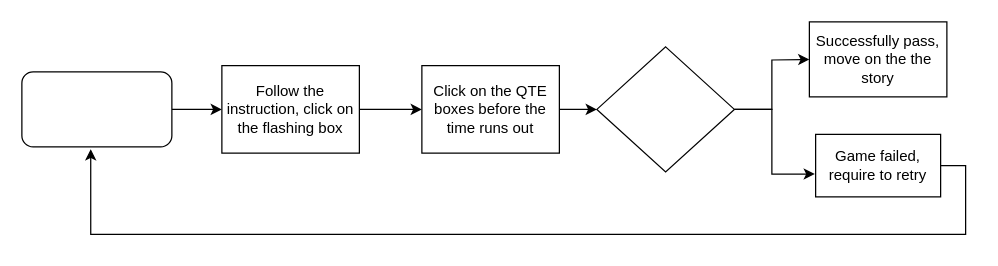
Image size: 998x266. Some labels were removed from this diagram. The shapes that lost their labels are listed below. From the top down, each one's centre as x and y in pixels, then its label:
At point 96,109: "GTE Game Start".
At point 665,109: "Did the user clicked all of the boxes in time?".
